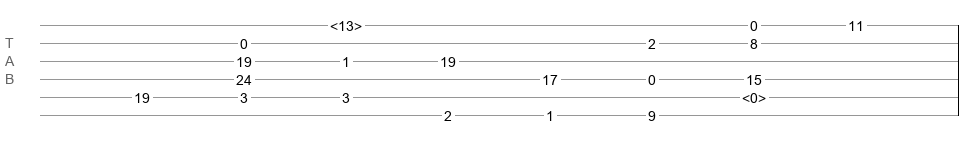0: (240, 36, 248, 46), (648, 72, 656, 82), (750, 18, 758, 28)
1: (342, 54, 350, 64), (546, 108, 554, 118)
11: (848, 18, 864, 28)
15: (746, 72, 762, 82)
17: (542, 72, 558, 82)
19: (134, 90, 150, 100), (236, 54, 252, 64), (440, 54, 456, 64)
2: (444, 108, 452, 118), (648, 36, 656, 46)
24: (236, 72, 252, 82)
3: (240, 90, 248, 100), (342, 90, 350, 100)
8: (750, 36, 758, 46)
9: (648, 108, 656, 118)
harmonic: (330, 18, 362, 28), (742, 90, 766, 100)
